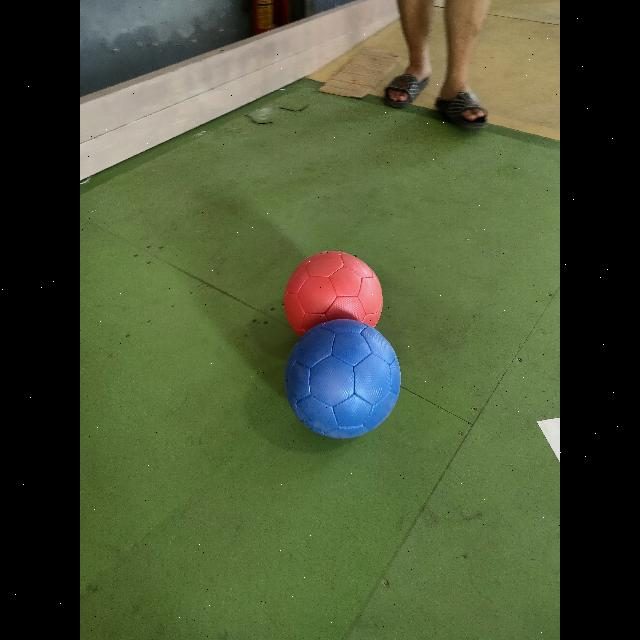B: (285, 320, 400, 439)
R: (284, 251, 382, 336)
